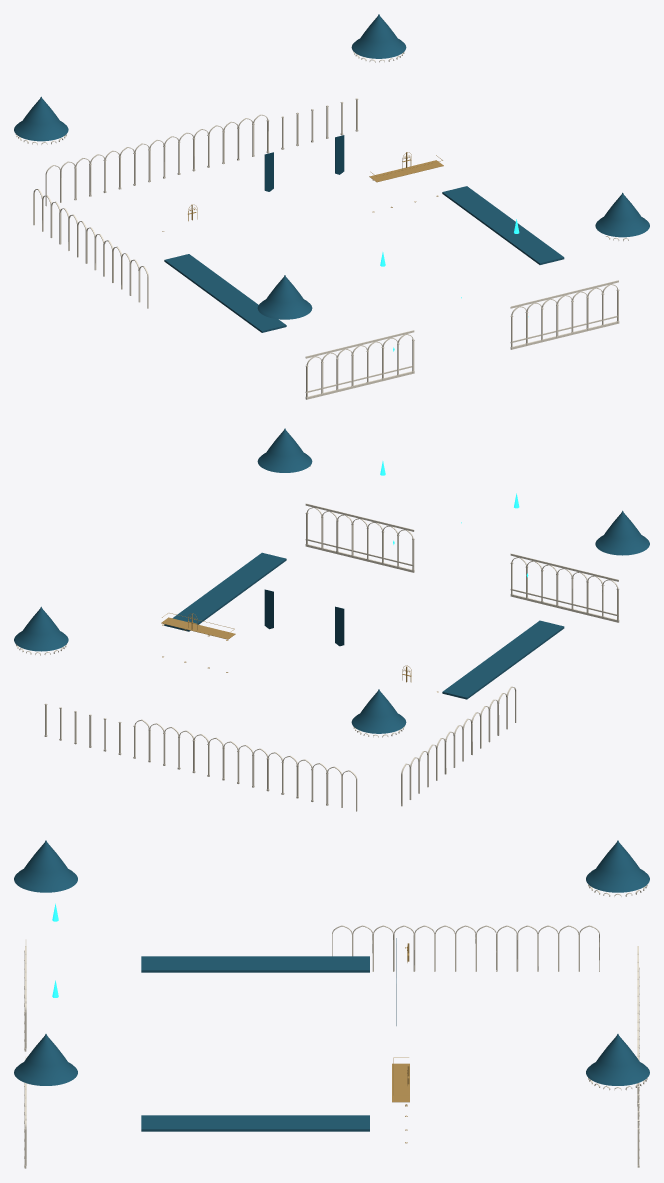
The model's file is castle-04.glb.
3 renders of one model, top to bottom at view 1: azimuth 30°, elevation 25°; view 2: azimuth 150°, elevation 25°; view 3: azimuth 270°, elevation 25°, orthographic. The views are drawn at different scales.
Parts seen in each view (by area): view 1: NC.Export.Fortifications.TealRoof, NC.Export.Courtyard.TealRoof, NC.Export.Fortifications.IvoryStone.03, NC.Export.Fortifications.IvoryStone.07, NC.Export.Fortifications.IvoryStone.02, NC.Export.Palace.RoyalGold.09, NC.Export.Palace.BannerTeal; view 2: NC.Export.Fortifications.TealRoof, NC.Export.Courtyard.TealRoof, NC.Export.Fortifications.IvoryStone.03, NC.Export.Fortifications.IvoryStone.07, NC.Export.Fortifications.IvoryStone.02, NC.Export.Palace.RoyalGold.09, NC.Export.Palace.BannerTeal; view 3: NC.Export.Fortifications.TealRoof, NC.Export.Courtyard.TealRoof, NC.Export.Fortifications.IvoryStone.03, NC.Export.Palace.RoyalGold.09, NC.Export.Fortifications.IvoryStone.07, NC.Export.Fortifications.IvoryStone.02.
Boxes of the visible parts, x1,y1,x2,y2 form: NC.Export.Fortifications.TealRoof: (14,14,649,319); NC.Export.Courtyard.TealRoof: (164,186,564,332); NC.Export.Fortifications.IvoryStone.03: (33,189,619,349); NC.Export.Fortifications.IvoryStone.07: (45,98,358,206); NC.Export.Fortifications.IvoryStone.02: (15,51,628,399); NC.Export.Palace.RoyalGold.09: (162,152,443,231); NC.Export.Palace.BannerTeal: (264,135,344,191); NC.Export.Fortifications.TealRoof: (14,428,649,733); NC.Export.Courtyard.TealRoof: (164,552,564,699); NC.Export.Fortifications.IvoryStone.03: (305,503,516,806); NC.Export.Fortifications.IvoryStone.07: (44,703,357,811); NC.Export.Fortifications.IvoryStone.02: (15,466,619,737); NC.Export.Palace.RoyalGold.09: (161,613,438,692); NC.Export.Palace.BannerTeal: (264,589,344,646); NC.Export.Fortifications.TealRoof: (14,840,649,1085); NC.Export.Courtyard.TealRoof: (141,956,369,1131); NC.Export.Fortifications.IvoryStone.03: (24,925,599,1168); NC.Export.Palace.RoyalGold.09: (392,943,409,1143); NC.Export.Fortifications.IvoryStone.07: (637,946,639,1167); NC.Export.Fortifications.IvoryStone.02: (24,884,647,1090).
Bounding box in the file's own units: 109 × 32.92 × 133.
